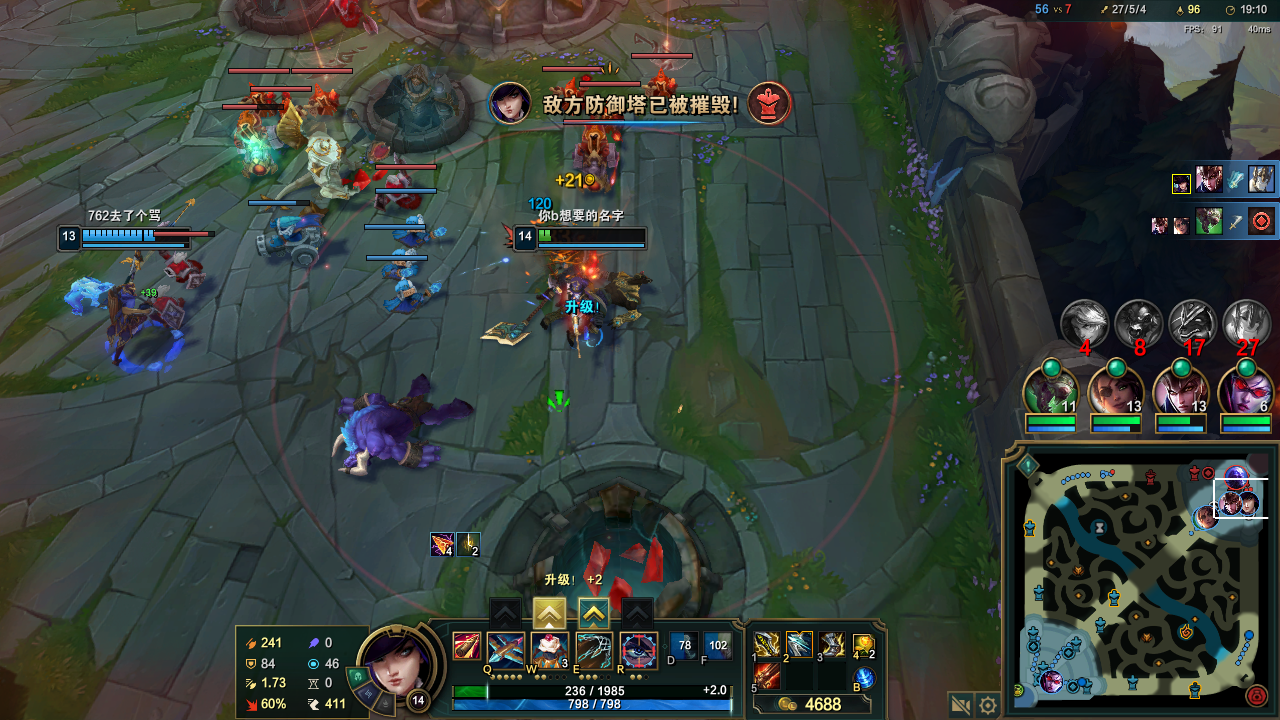DFXB: (566, 127, 629, 189), (159, 251, 207, 286), (376, 169, 416, 207), (233, 114, 275, 148), (146, 290, 187, 324), (308, 91, 345, 117), (243, 92, 275, 120), (643, 75, 676, 101), (596, 102, 625, 129), (554, 83, 585, 108)
Shenji: (583, 604, 601, 626)
Tuijianshengji: (538, 601, 560, 625)
WFXB: (252, 211, 327, 264), (391, 277, 428, 315), (398, 215, 440, 245), (382, 245, 414, 270)
